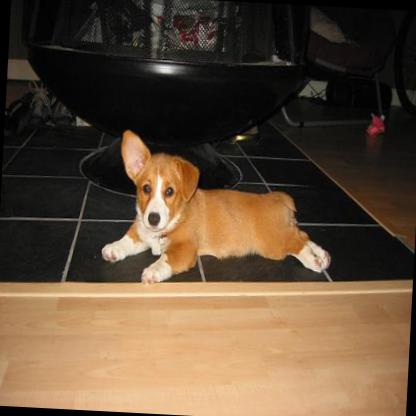Pembroke: (98, 126, 336, 290)
